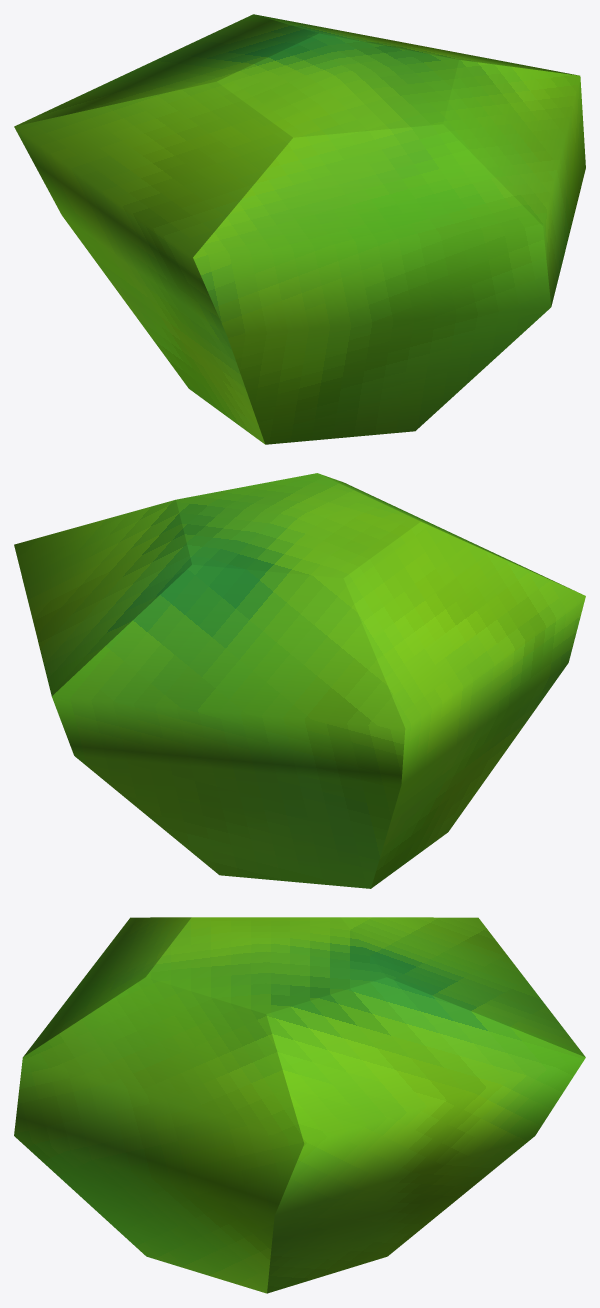
The model's file is model_bush3_basic.fbx.
3 renders of one model, top to bottom at view 1: azimuth 30°, elevation 25°; view 2: azimuth 150°, elevation 25°; view 3: azimuth 270°, elevation 25°, orthographic. The views are drawn at different scales.
Parts seen in each view (by area): view 1: SM_Bush3; view 2: SM_Bush3; view 3: SM_Bush3.
Part boxes in pixels (left/top/right/bottom): SM_Bush3: left=14, top=14, right=585, bottom=444; SM_Bush3: left=14, top=473, right=585, bottom=888; SM_Bush3: left=14, top=917, right=585, bottom=1293.
Bounding box in the file's own units: 4.22 × 2.66 × 4.51.
Materials: 1 (1 with a texture image).
